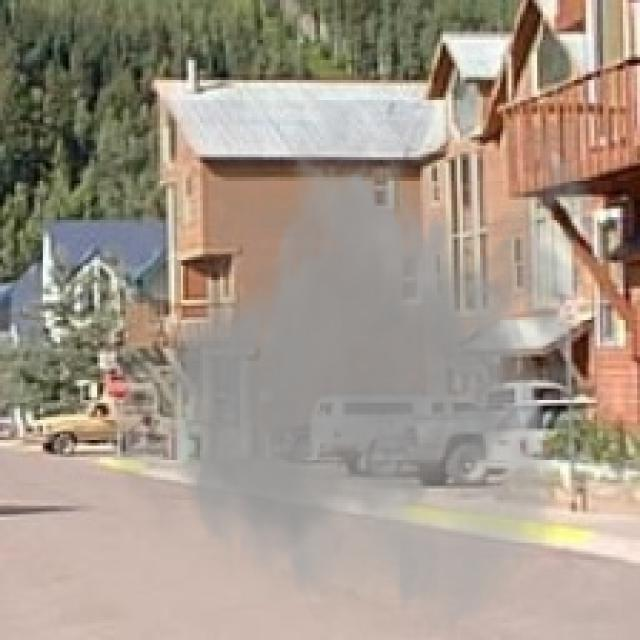smoke: (95, 100, 614, 634)
